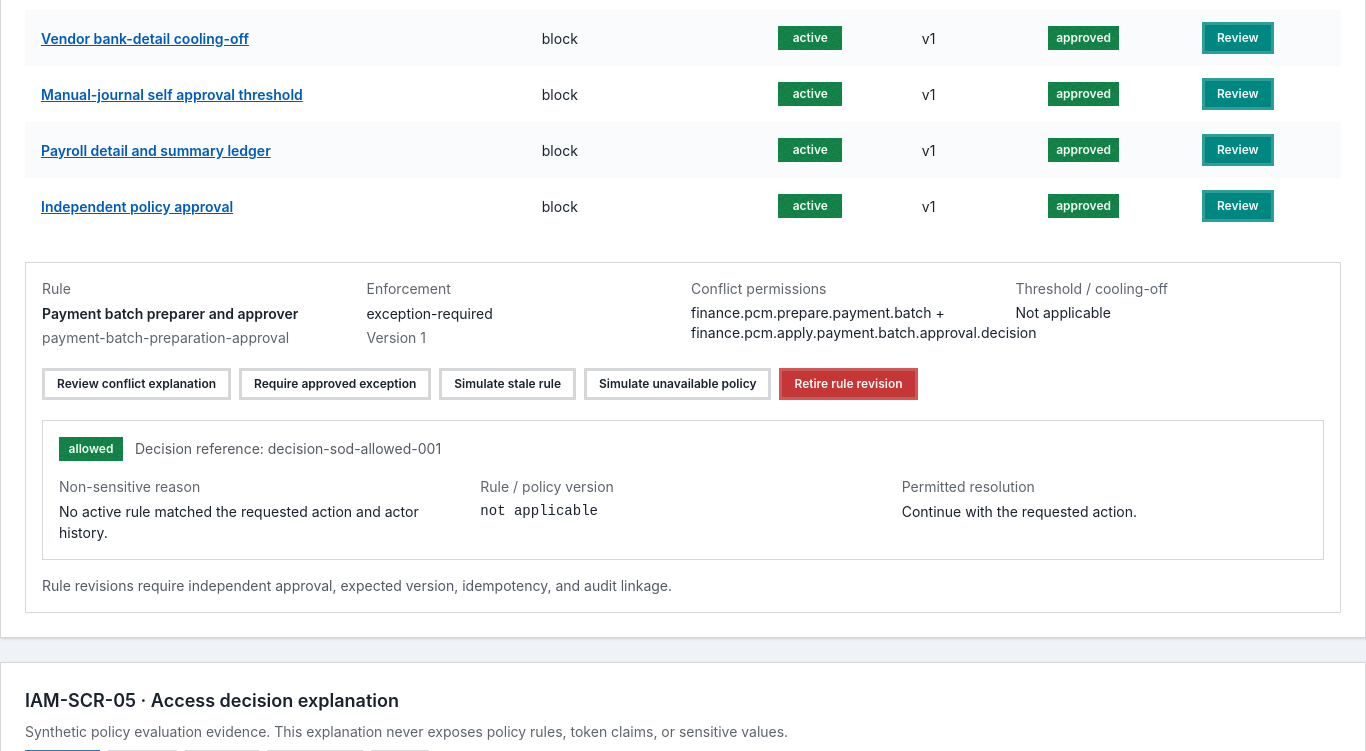
Test: identity access workspace › administers versioned segregation rules and explains safe outcomes
This screenshot has width=1366, height=751.
(page scrolled)
Click the button "Review conflict explanation" at (136,384), box [42,368,231,400]
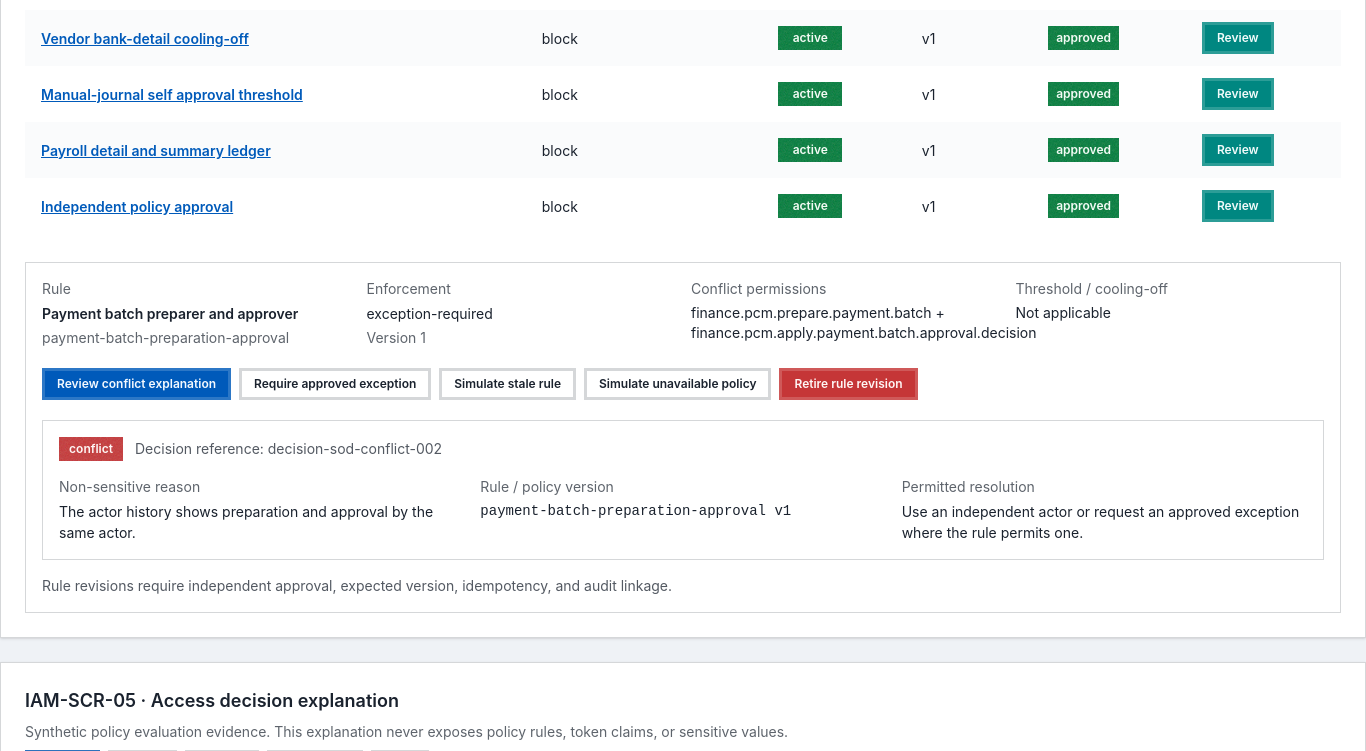
Now the message "conflict" is shown, box [59,437,123,461]
Now the text "Use an independent actor or request an approved exception where the rule permits one." is shown, box [902,503,1299,541]
Click the button "Simulate stale rule" at (508,384), box [439,368,576,400]
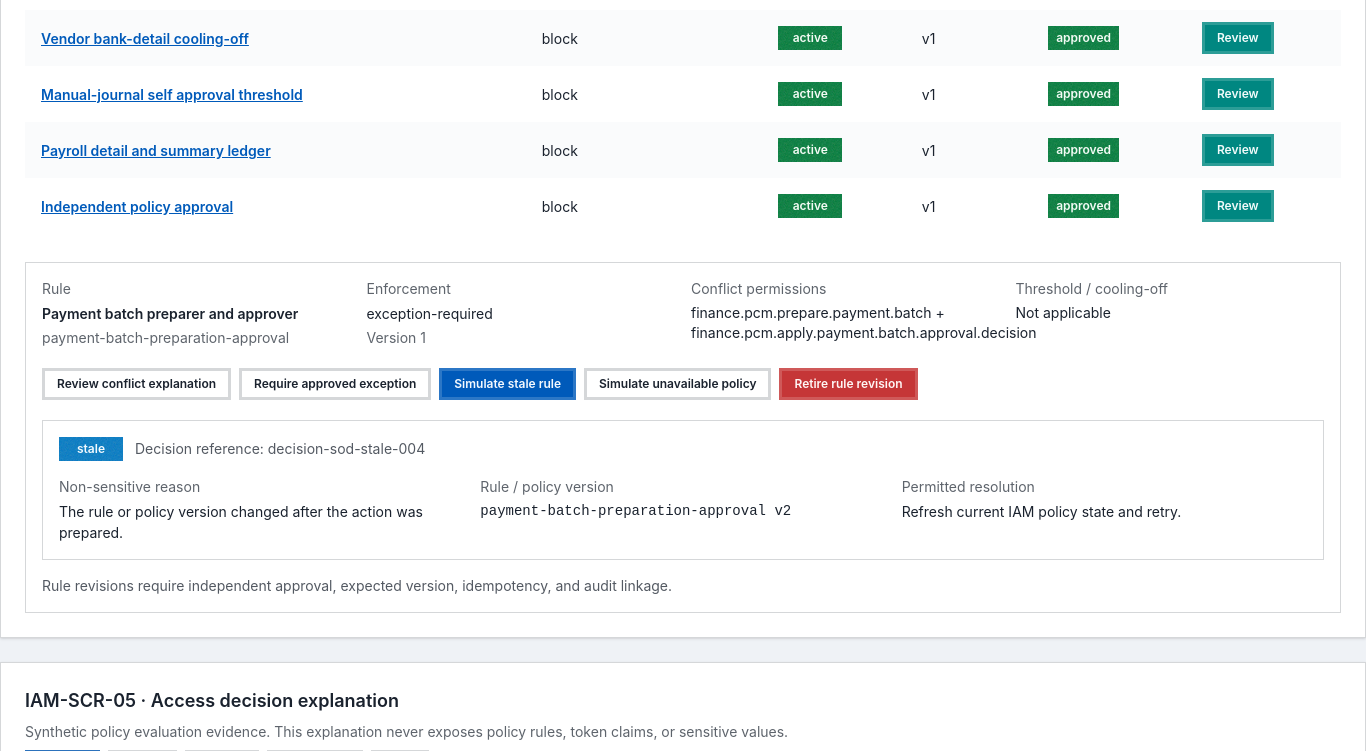
Now the message "stale" is shown, box [59,437,123,461]
Now the text "Refresh current IAM policy state and retry." is shown, box [902,503,1181,520]
Click the button "Retire rule revision" at (849,384), box [780,368,918,400]
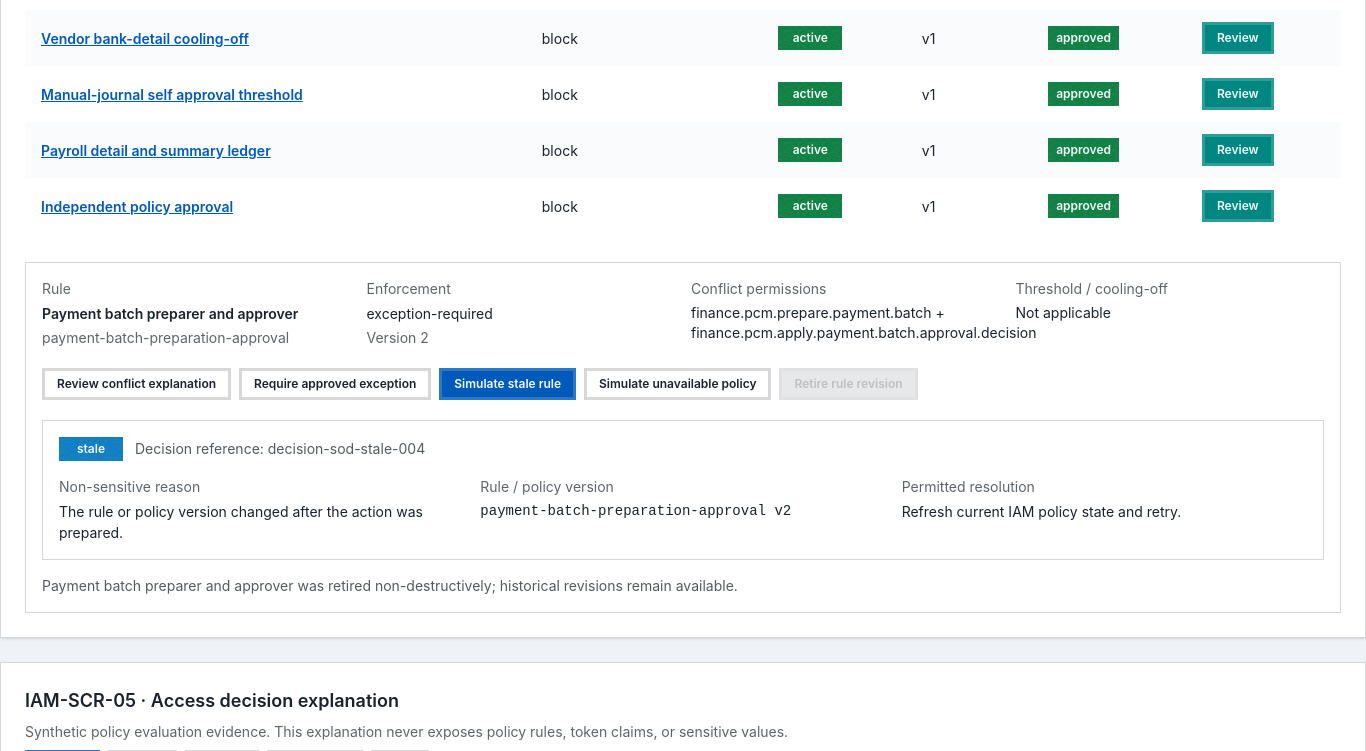
Now the text "historical revisions remain available" is shown, box [42,577,738,594]
